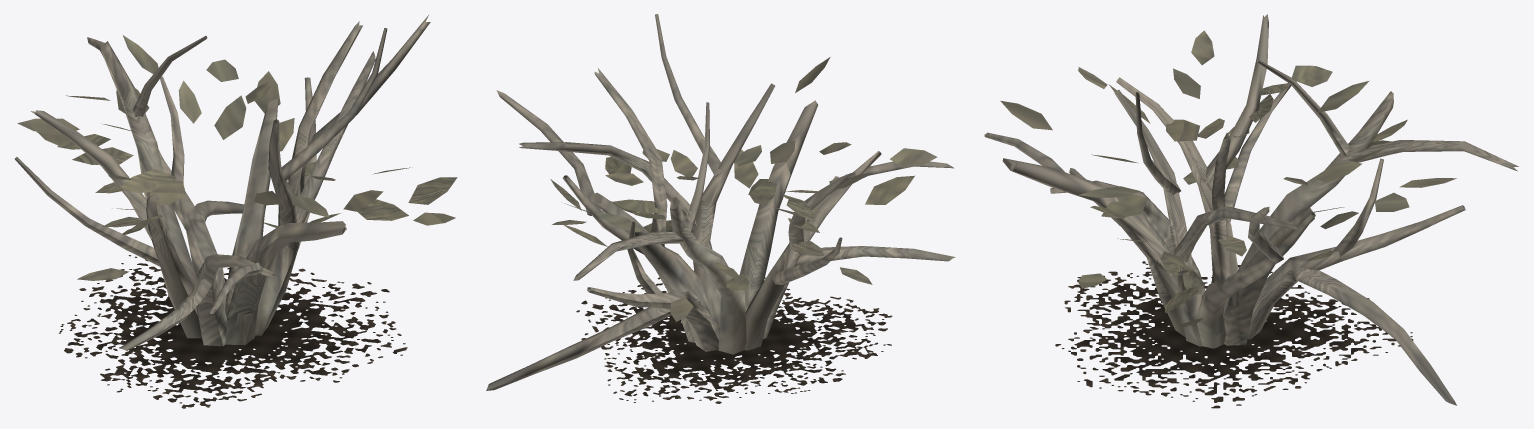
The model's file is bush_dry_01.glb.
3 renders of one model, left to right at view 1: azimuth 30°, elevation 25°; view 2: azimuth 150°, elevation 25°; view 3: azimuth 270°, elevation 25°, orthographic. The views are drawn at different scales.
Parts seen in each view (by area): view 1: bush_dry_01; view 2: bush_dry_01; view 3: bush_dry_01.
Boxes of the visible parts, x1,y1,x2,y2 form: bush_dry_01: [15, 15, 457, 408]; bush_dry_01: [486, 14, 955, 403]; bush_dry_01: [984, 14, 1518, 408].
Size of the model in its own units: 1.27 by 0.9136 by 1.47.
Materials: 2 (2 with a texture image).
